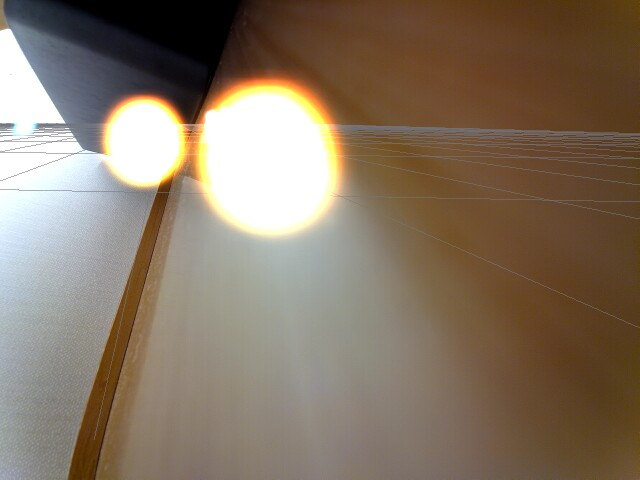firebig: (195, 77, 343, 247)
